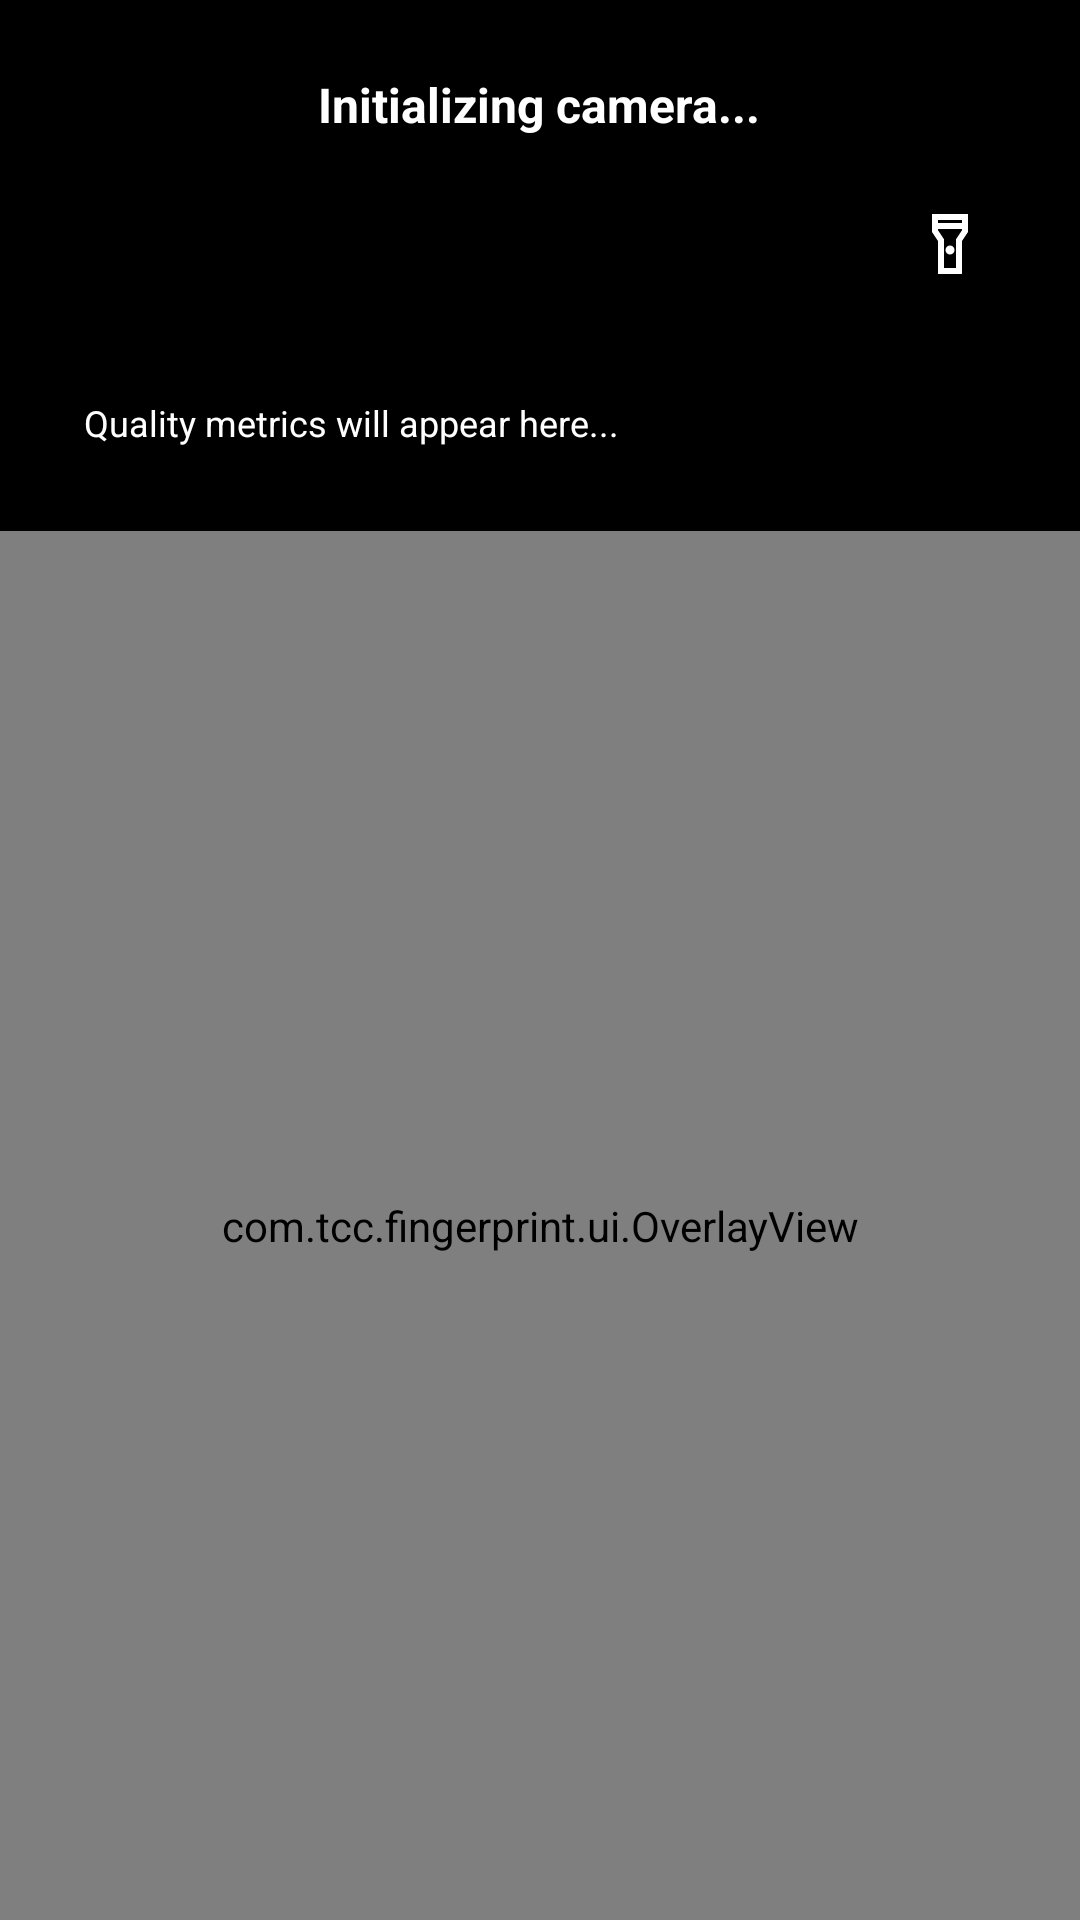

Point at icon controls on the screen. Image size 1080 × 1920, points as [x,y].
flash on: [950,244]
